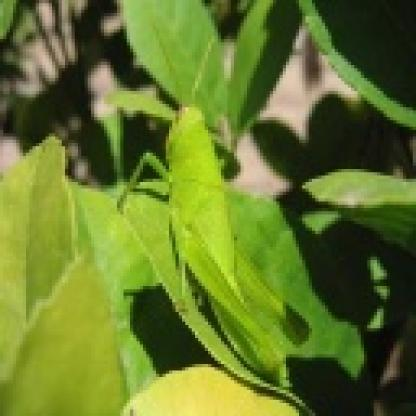grasshopper: (116, 88, 304, 389)
